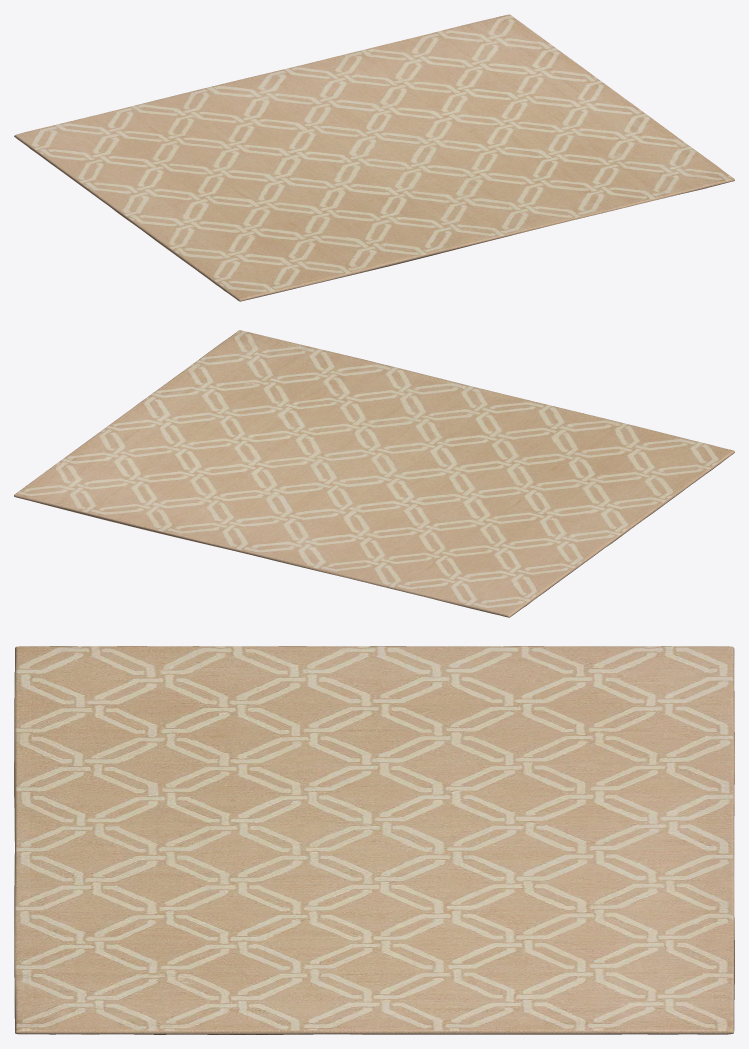
The model's file is abo-B07121ZVXN.glb.
The picture shows the model from 3 angles, top to bottom: view 1: azimuth 30°, elevation 25°; view 2: azimuth 150°, elevation 25°; view 3: azimuth 270°, elevation 25°; orthographic projection. The views are drawn at different scales.
Size of the model in its own units: 2.89 by 0.018 by 2.29.
Materials: 1 (1 with a texture image).
